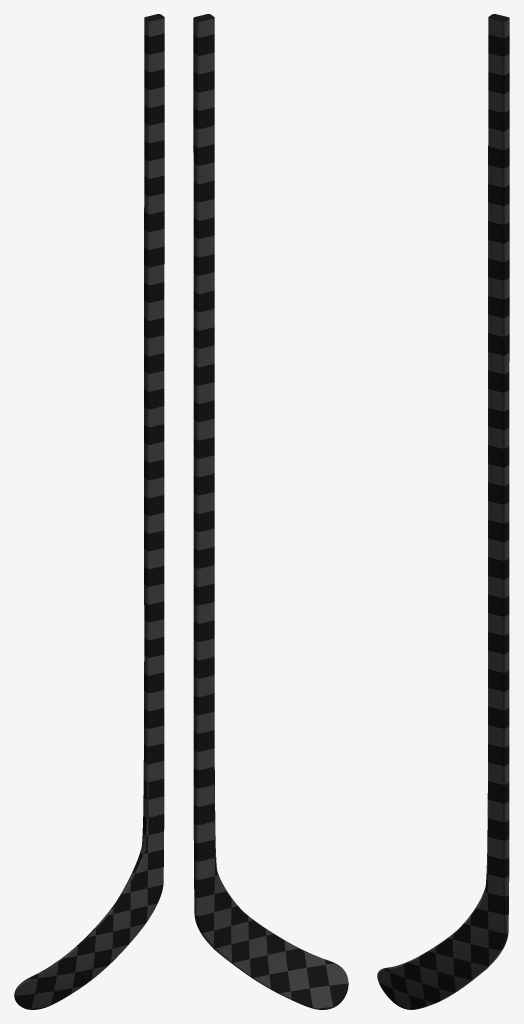
The model's file is P90M-LIE7_5-ST.glb.
3 views of the same model, side by side, from view 1: azimuth 30°, elevation 25°; view 2: azimuth 210°, elevation 25°; view 3: azimuth 330°, elevation 25° (orthographic). The views are drawn at different scales.
Parts seen in each view (by area): view 1: geometry_0; view 2: geometry_0; view 3: geometry_0.
Part boxes in pixels (x1,y1,x2,y2): geometry_0: (14,14,164,1009); geometry_0: (193,14,348,1009); geometry_0: (377,14,509,1009).
Bounding box in the file's own units: 240 × 1650 × 56.48.
Materials: 1 (1 with a texture image).
